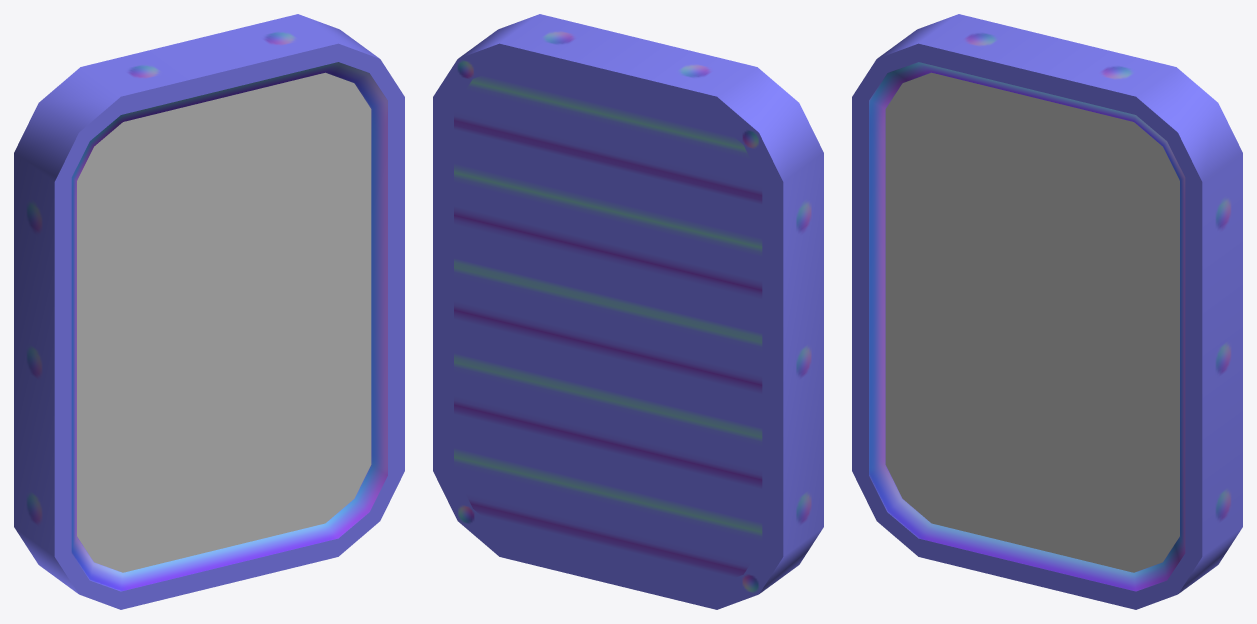
Rendered from obj_road_signcurve.fbx.
3 renders of one model, left to right at view 1: azimuth 30°, elevation 25°; view 2: azimuth 150°, elevation 25°; view 3: azimuth 330°, elevation 25°, orthographic.
Parts seen in each view (by area): view 1: polySurface25; view 2: polySurface25; view 3: polySurface25.
Part boxes in pixels (bbox=[...]): polySurface25: bbox=[14, 14, 404, 609]; polySurface25: bbox=[433, 14, 823, 609]; polySurface25: bbox=[852, 14, 1242, 609].
Bounding box in the file's own units: 5 × 7 × 1.
